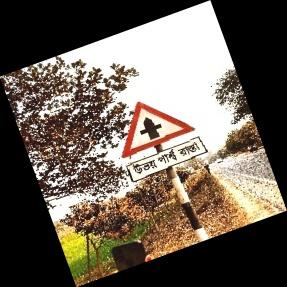Crossroad: (121, 101, 207, 185)
